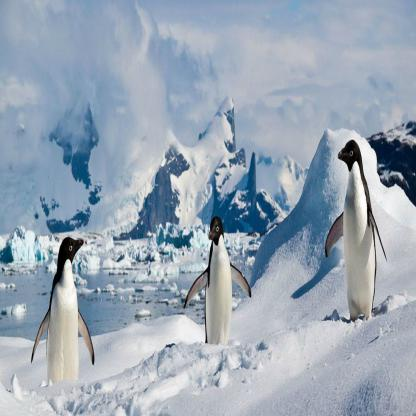Penguin: (317, 141, 400, 328), (25, 214, 103, 398), (183, 200, 253, 346)
